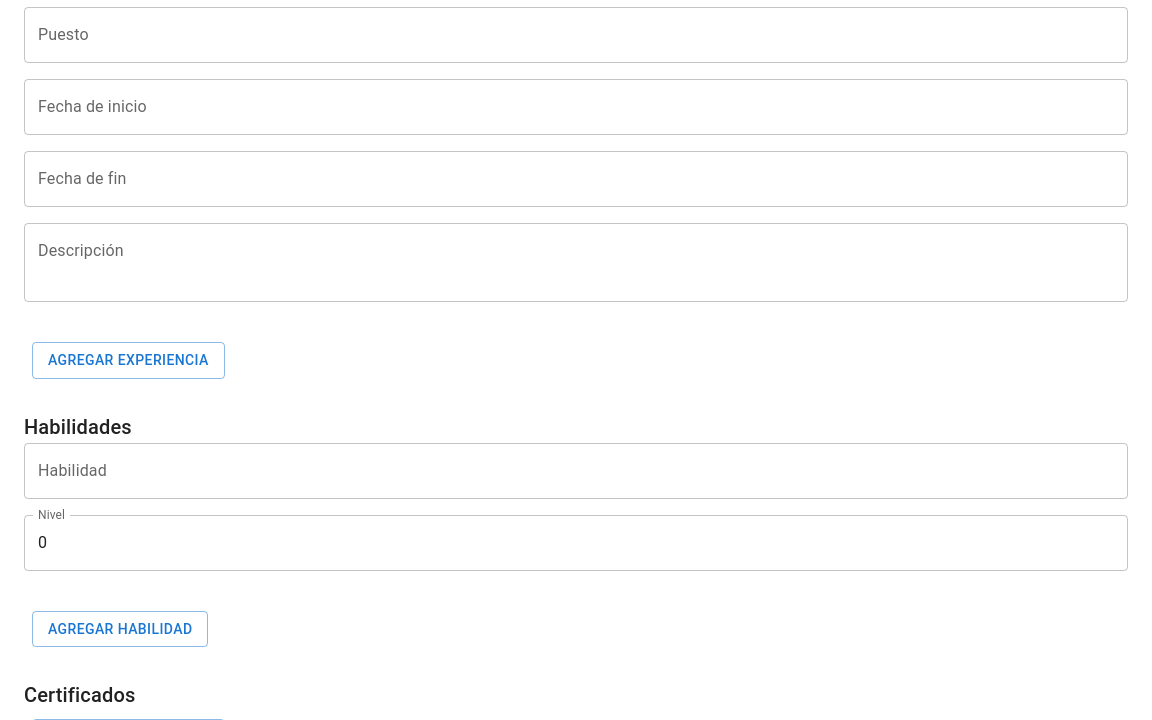
Test: CVForm › adds experience fields
The image size is (1152, 720).
(page scrolled)
Click the button "Agregar Experiencia" at (128, 361), box x1=32 y1=342 x2=225 y2=379
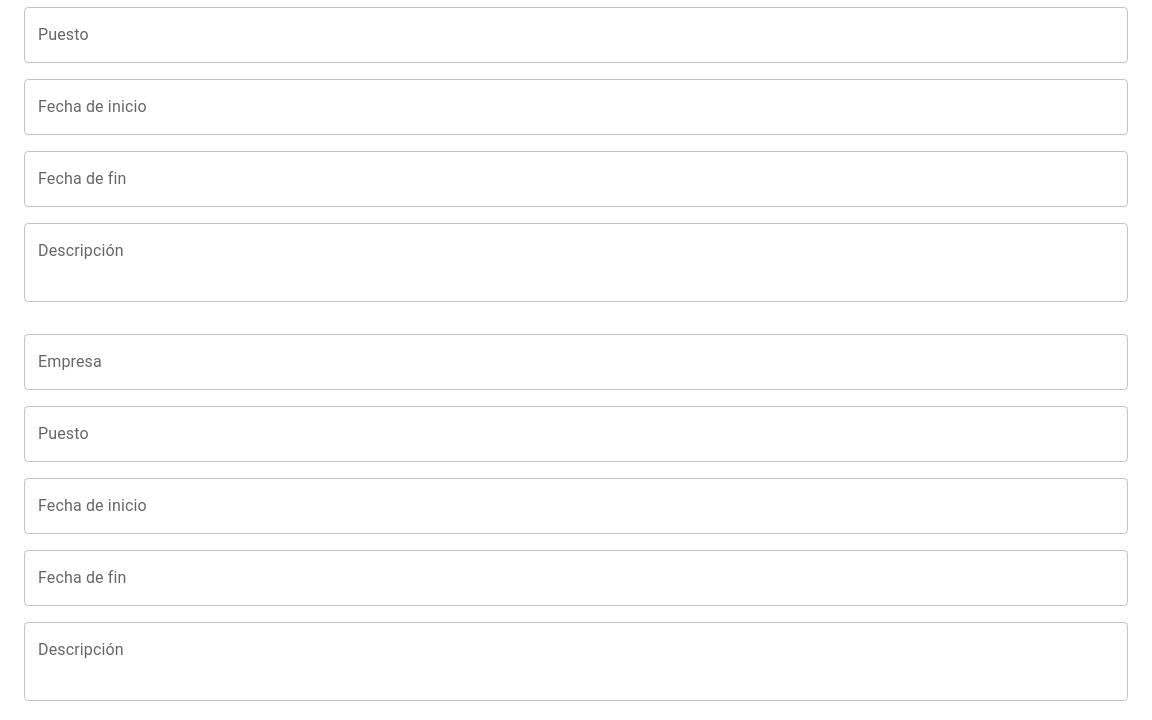
Expected: the number of fields labelled "empresa" is 2
